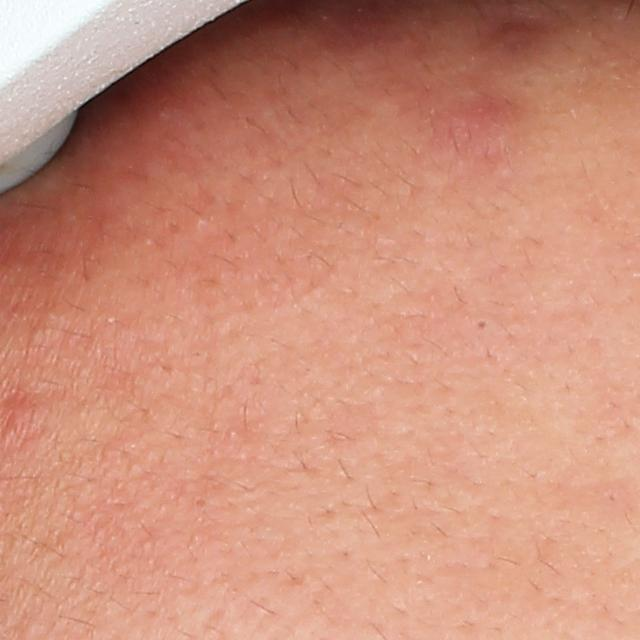comedo: (471, 314, 495, 337), (193, 496, 209, 510)
